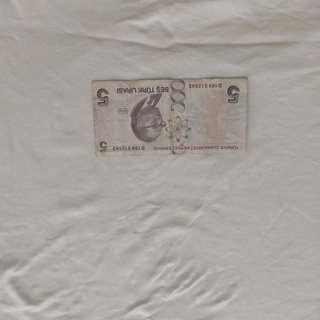5TLBack: (91, 76, 248, 158)
